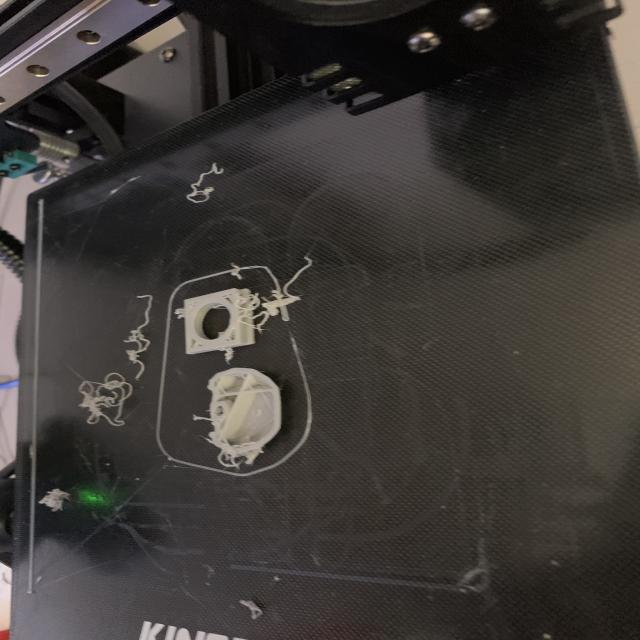spaghetti: (168, 258, 316, 471), (58, 288, 152, 436), (180, 162, 232, 208), (31, 476, 80, 521)
